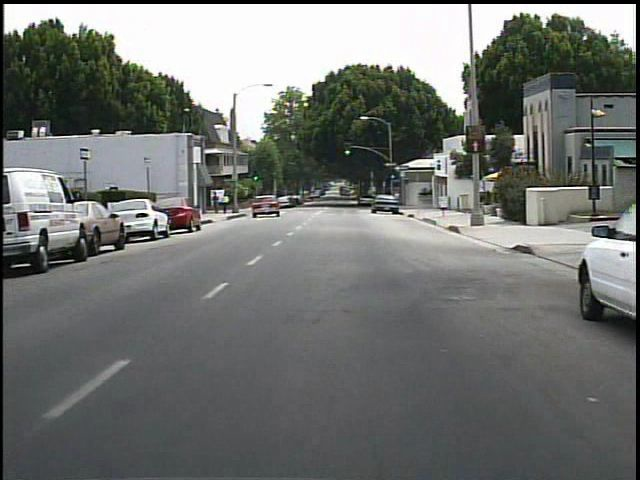person: (210, 191, 223, 216), (221, 192, 232, 214)
